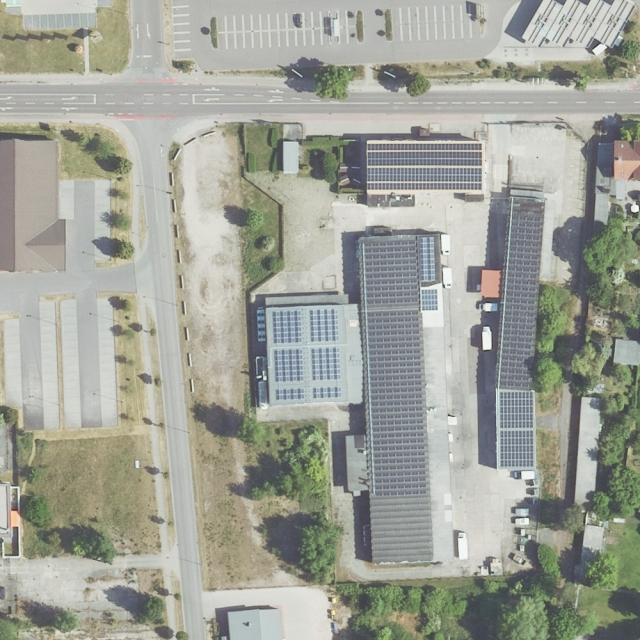PV: (364, 240, 428, 496), (500, 214, 541, 389), (271, 308, 343, 401), (366, 143, 482, 190), (498, 391, 533, 467), (418, 238, 436, 281), (422, 289, 437, 310)
